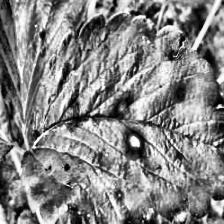Leaf Spot: (18, 10, 224, 224), (0, 0, 93, 137)
